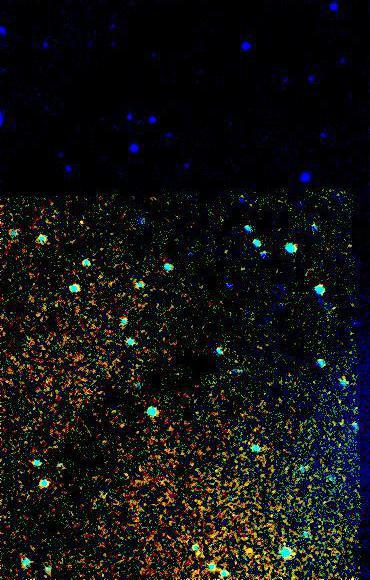star: (234, 537, 264, 567)
